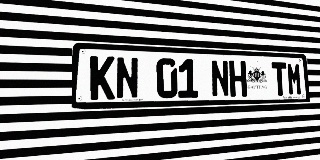0: (156, 58, 178, 98)
1: (178, 59, 198, 98)
H: (229, 60, 247, 97)
K: (90, 56, 115, 100)
M: (287, 62, 302, 96)
N: (116, 56, 139, 99), (211, 60, 230, 97)
T: (271, 62, 288, 96)
